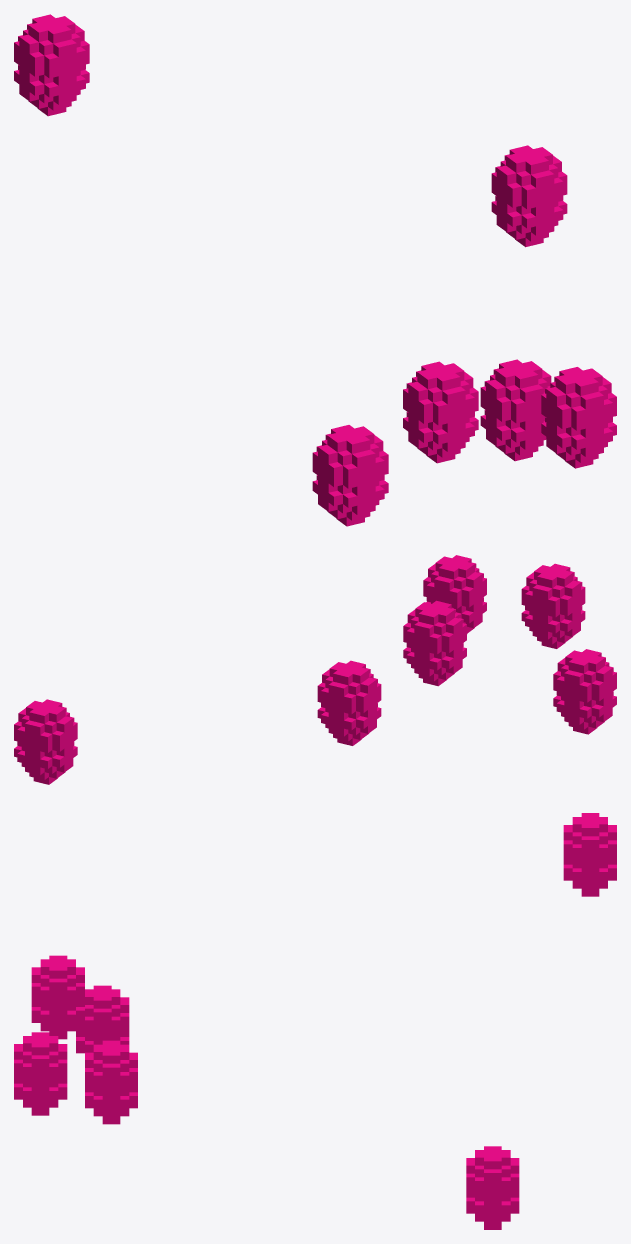
Rendered from IceBerries-0.obj.
3 views of the same model, one above another, from view 1: azimuth 30°, elevation 25°; view 2: azimuth 150°, elevation 25°; view 3: azimuth 270°, elevation 25° (orthographic). The views are drawn at different scales.
Bounding box in the file's own units: 5.2 × 3 × 6.8.
Materials: 1 (1 with a texture image).
